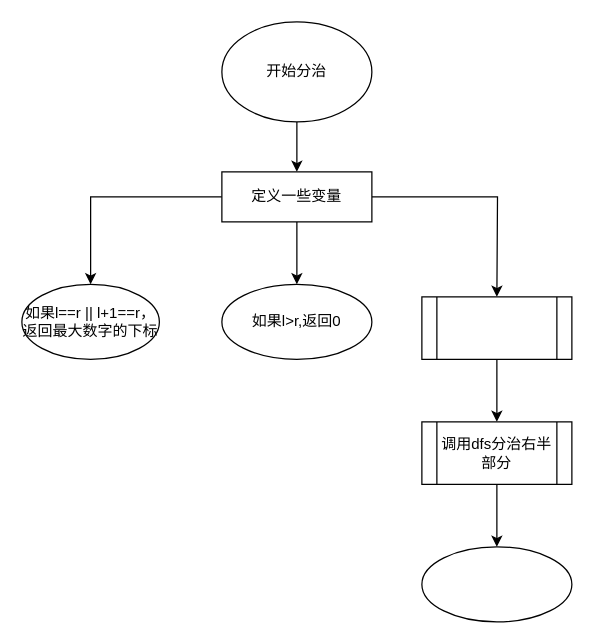
The diagram is 594 pixels wide and 644 high, and some of its shapes have lost their labels. The centre of each missing label's shape, as x and y in pixels:
"调用dfs分治左半部分" goes at pixel 496 327.
"返回左右部分最大值的下标" goes at pixel 496 584.
